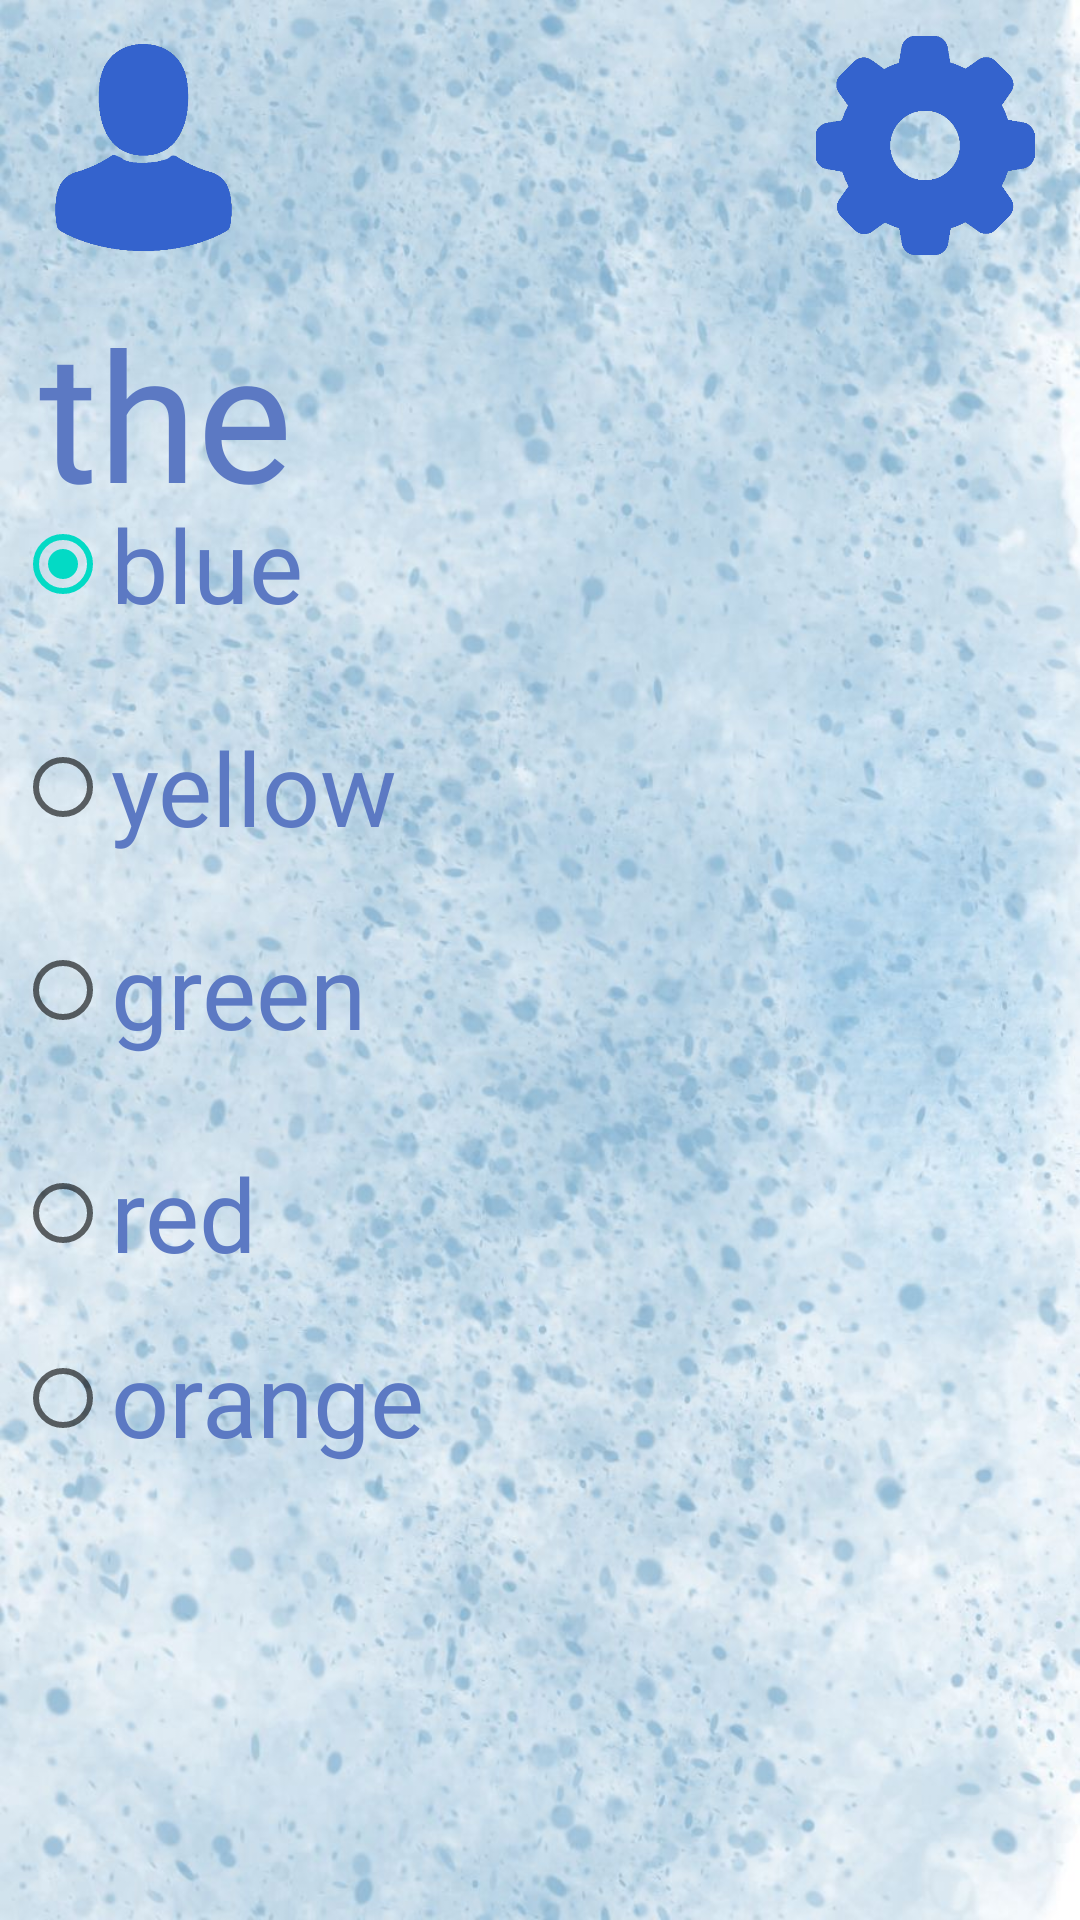

Icons on this 1080*1920 Android screen, each with the point to tap as [x,y]:
settings: [925,145]
